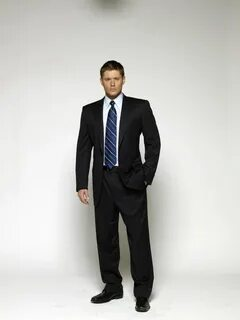awake: (75, 60, 162, 313)
